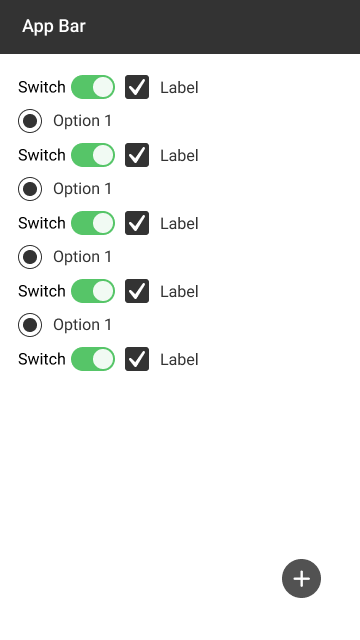checkBox: (123, 277, 200, 305), (124, 73, 200, 100), (123, 345, 199, 372), (123, 141, 201, 167), (123, 210, 200, 236)
floatingButton: (279, 559, 324, 599)
radioButton: (17, 174, 116, 202), (18, 242, 112, 271), (16, 108, 113, 134), (16, 312, 115, 337)
switch: (15, 346, 116, 373), (18, 209, 116, 236), (19, 141, 115, 168), (18, 278, 117, 304), (18, 75, 116, 100)
toolbar: (1, 1, 360, 55)
